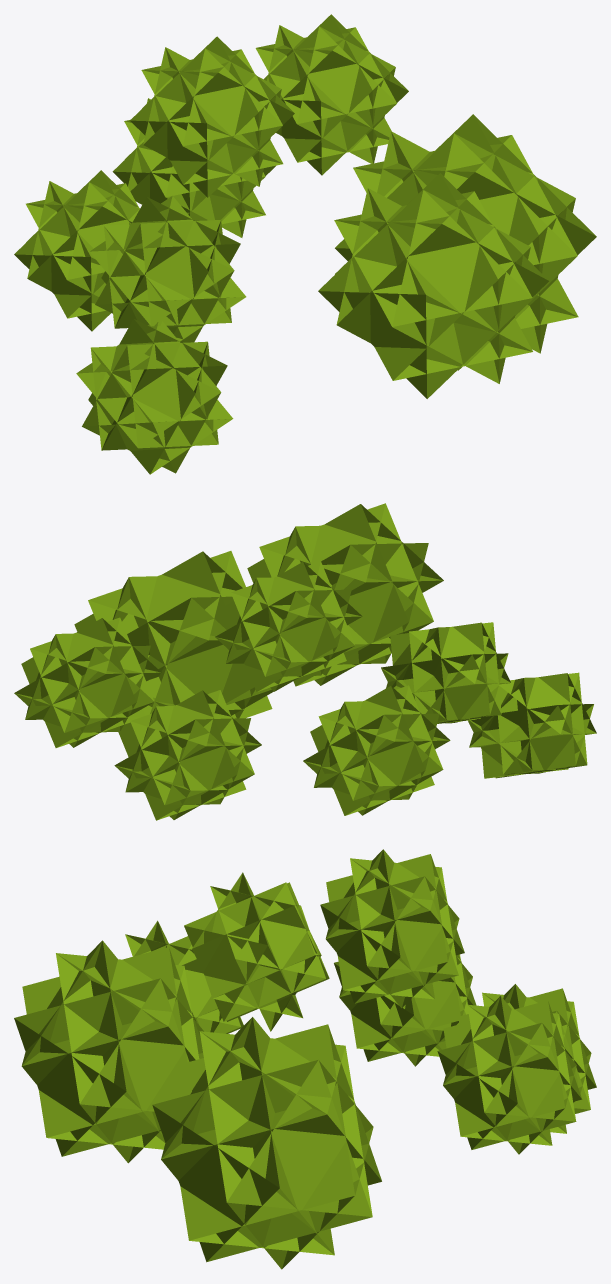
The model's file is tree-summer-leaves-033.glb.
The picture shows the model from 3 angles, top to bottom: view 1: azimuth 30°, elevation 25°; view 2: azimuth 150°, elevation 25°; view 3: azimuth 270°, elevation 25°; orthographic projection. The views are drawn at different scales.
Parts seen in each view (by area): view 1: Plane.012_264; view 2: Plane.012_264; view 3: Plane.012_264.
Part boxes in pixels (<box>): Plane.012_264: <box>14,14,596,474</box>; Plane.012_264: <box>14,503,596,820</box>; Plane.012_264: <box>14,849,596,1269</box>.
Size of the model in its own units: 2.01 by 1.14 by 1.92.
